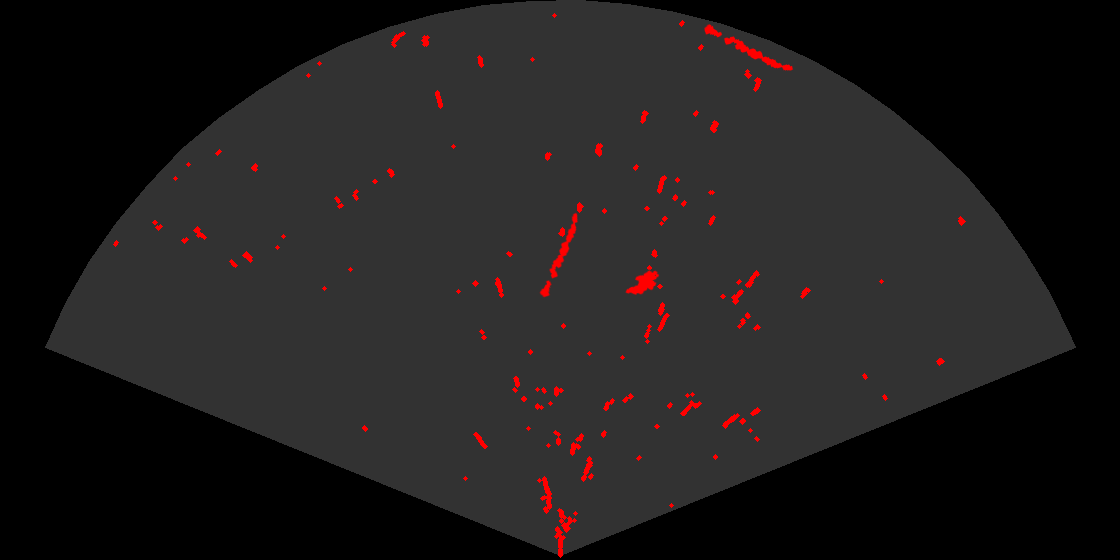AUV: (624, 269, 661, 297)
chain: (703, 23, 794, 72), (538, 211, 579, 300)
